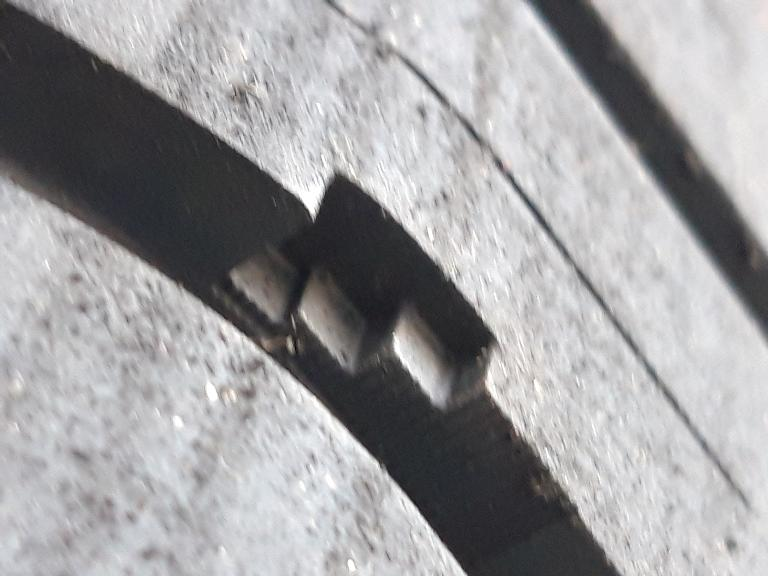temoin:75: (202, 152, 545, 511)
